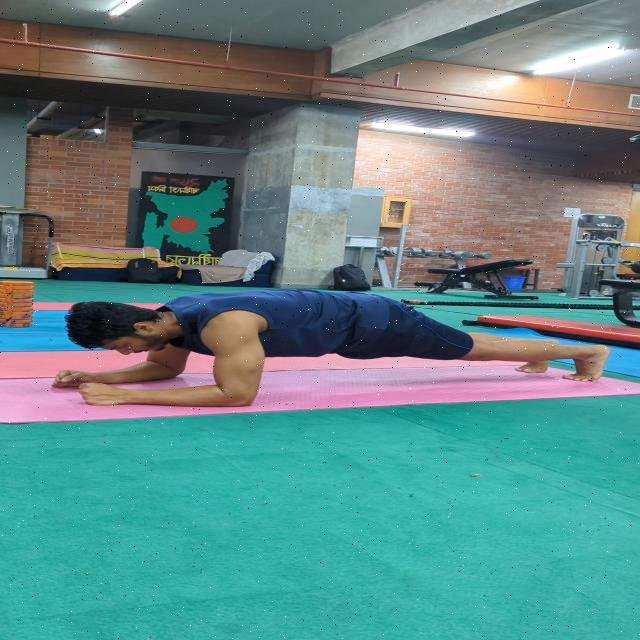Normal_Plunk: (39, 274, 596, 414)
